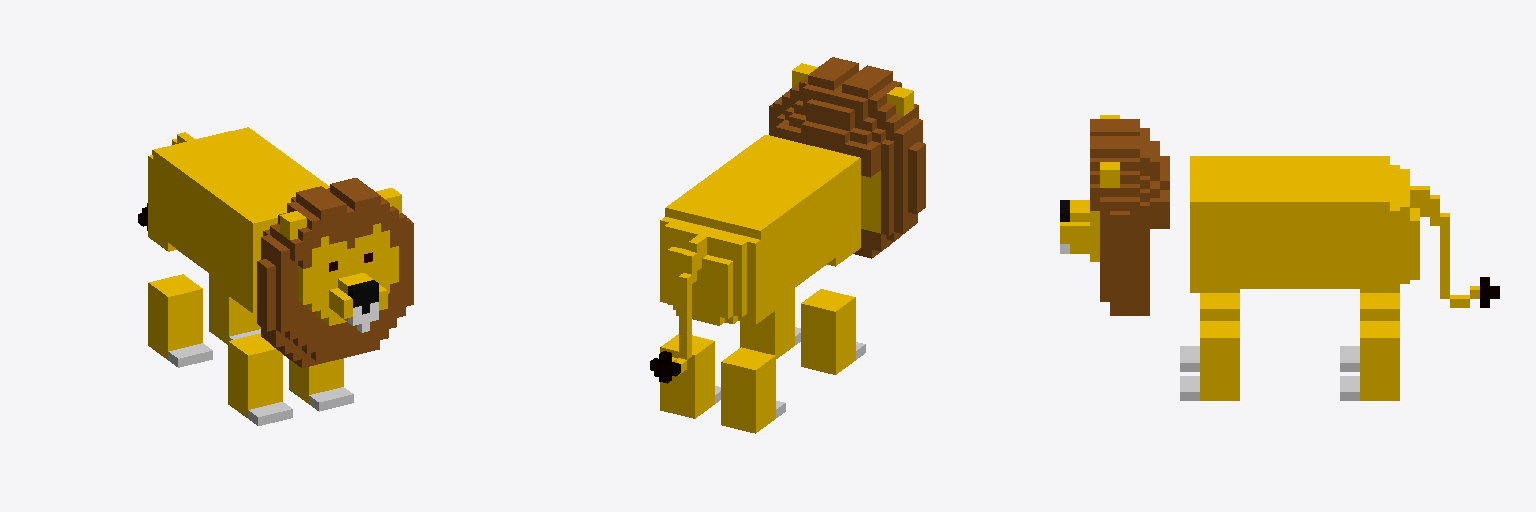
3 renders of one model, left to right at view 1: azimuth 30°, elevation 25°; view 2: azimuth 150°, elevation 25°; view 3: azimuth 270°, elevation 25°, orthographic.
Visible parts, largest first — view 1: object 1; view 2: object 1; view 3: object 1.
Boxes of the visible parts, x1=… form: object 1: x1=138, y1=127, x2=413, y2=425; object 1: x1=650, y1=57, x2=925, y2=433; object 1: x1=1060, y1=115, x2=1499, y2=400.
Bounding box in the file's own units: 1.7 × 2.7 × 4.4.
Materials: 1 (1 with a texture image).